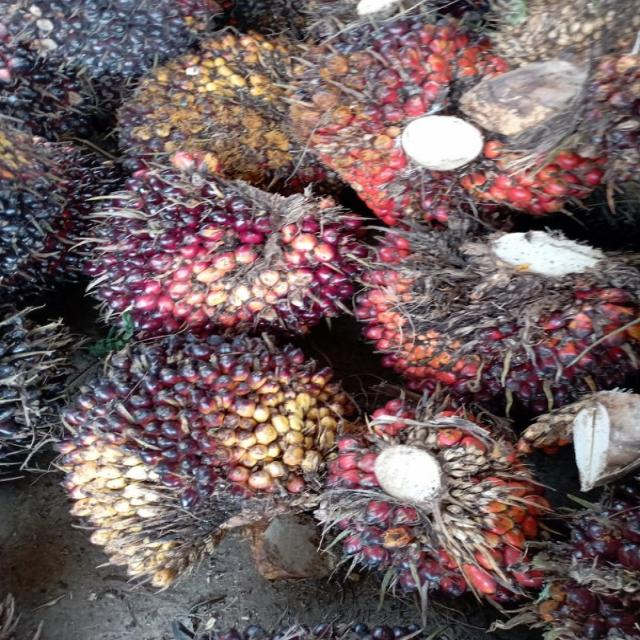fraksi 00: (53, 336, 381, 566)
fraksi 1: (62, 153, 356, 340)
fraksi 3: (291, 8, 617, 228), (360, 220, 640, 386)
